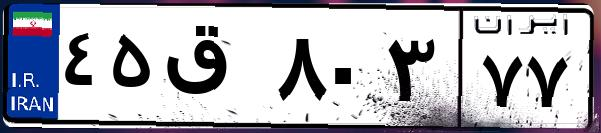0: (330, 28, 385, 110)
3: (385, 28, 445, 110)
4: (57, 26, 110, 100)
5: (110, 28, 158, 98)
7: (475, 38, 525, 113), (525, 38, 570, 115)
8: (270, 28, 330, 110)
ق: (158, 20, 270, 120)
